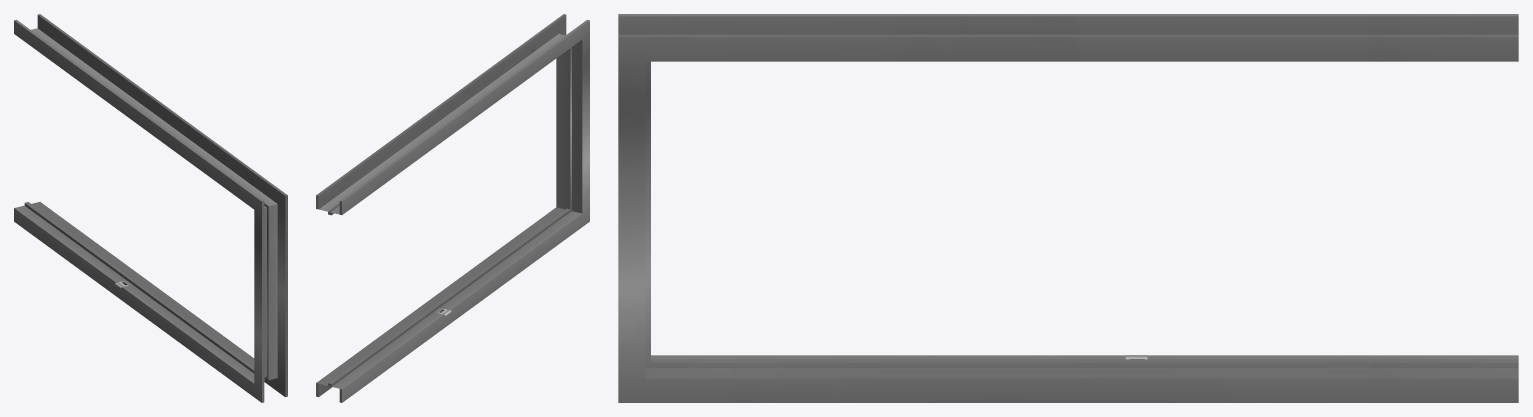
The picture shows the model from 3 angles, left to right: view 1: azimuth 30°, elevation 25°; view 2: azimuth 150°, elevation 25°; view 3: azimuth 270°, elevation 25°; orthographic projection. The views are drawn at different scales.
Visible parts, largest first — view 1: link_0; view 2: link_0; view 3: link_0.
Boxes of the visible parts, <box> form: link_0: <box>14,14,287,402</box>; link_0: <box>316,14,589,402</box>; link_0: <box>618,14,1518,402</box>.
Size of the model in its own units: 0.1028 by 0.7246 by 1.62.
